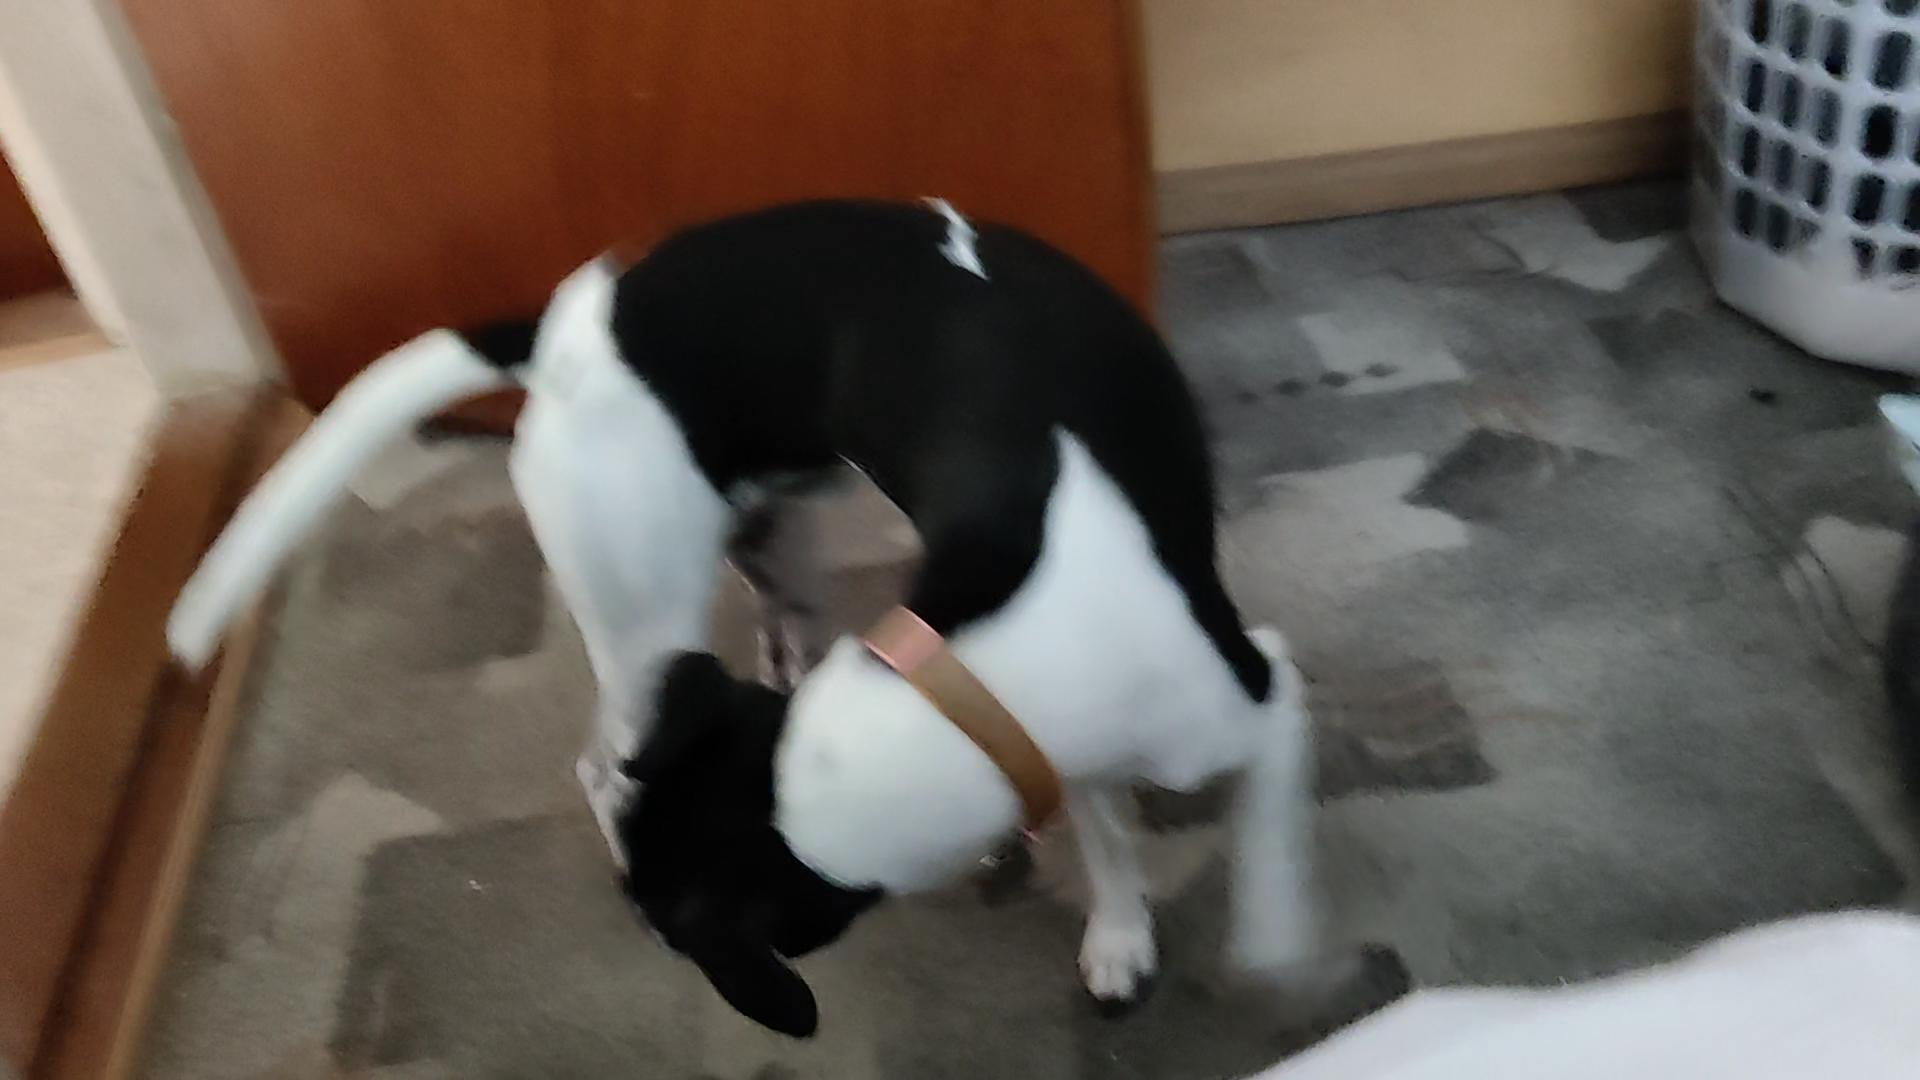Dog: (154, 181, 1407, 1038)
